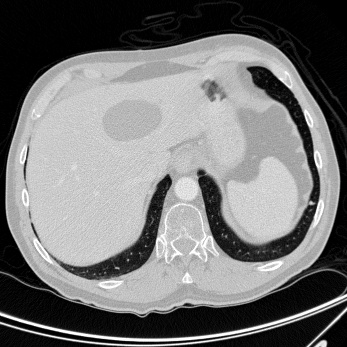PN: (309, 201, 313, 205)
